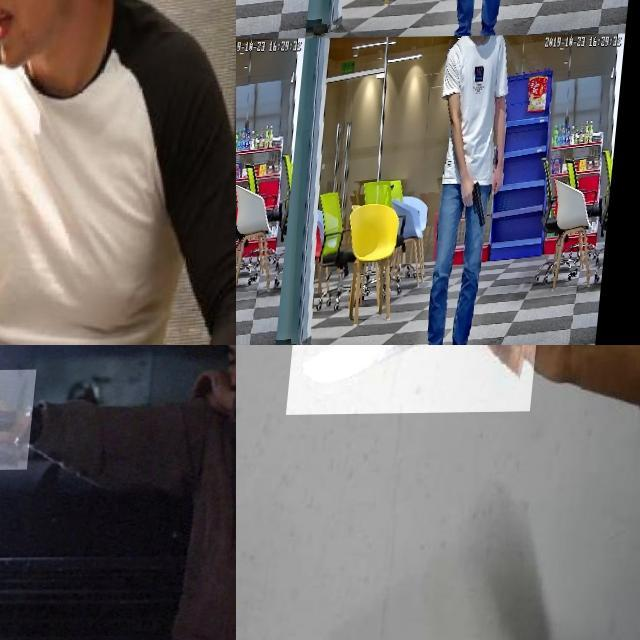-: (291, 345, 550, 441), (0, 84, 42, 269)
gun-knife-thesis - v11 Yolov5 augmented: (0, 369, 56, 471), (464, 171, 508, 228), (457, 0, 490, 29), (236, 173, 254, 226), (236, 0, 255, 29)
